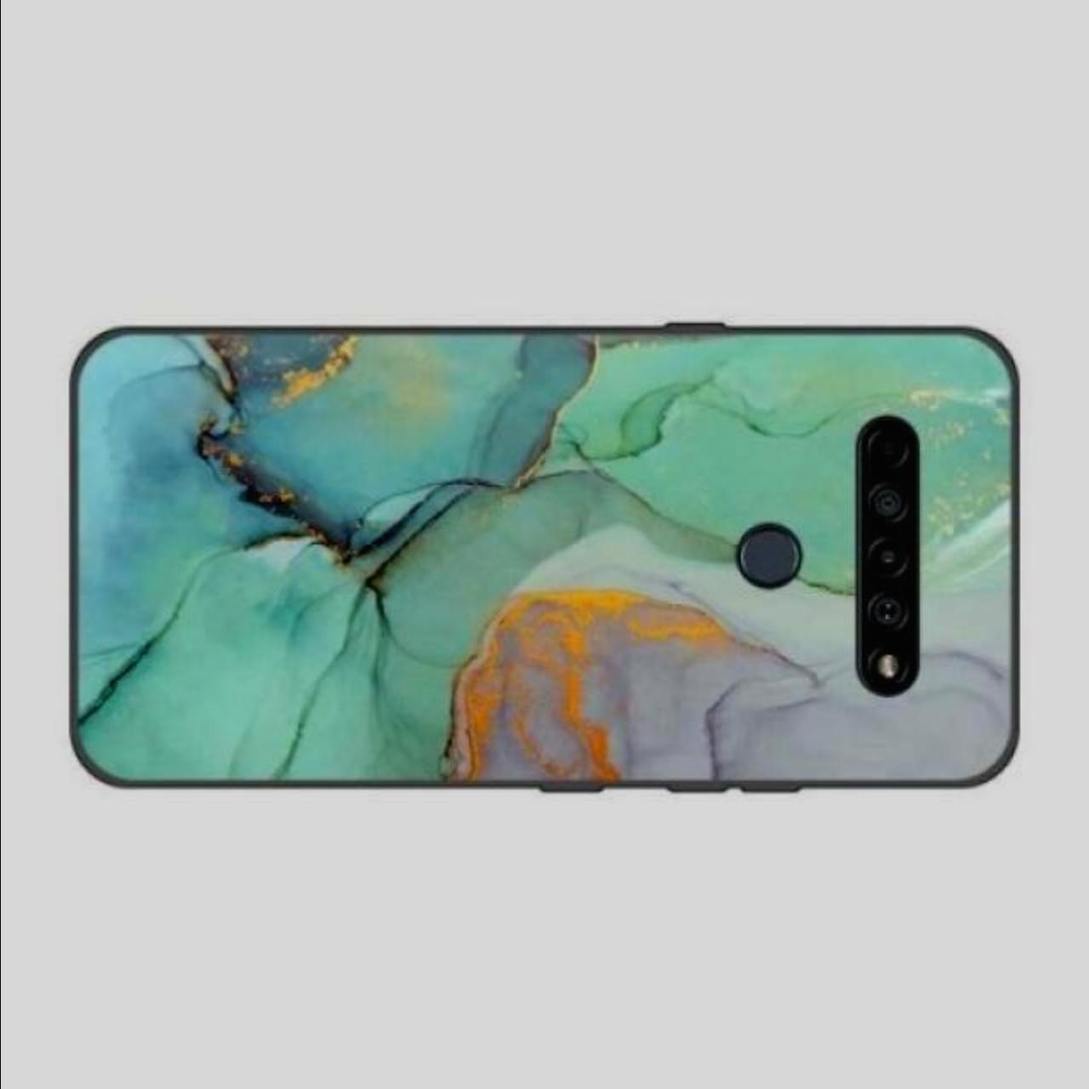phone: (65, 316, 1026, 796)
